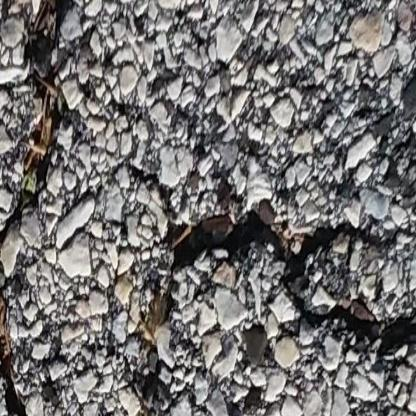Cracks: (116, 204, 416, 416), (0, 0, 96, 416)
